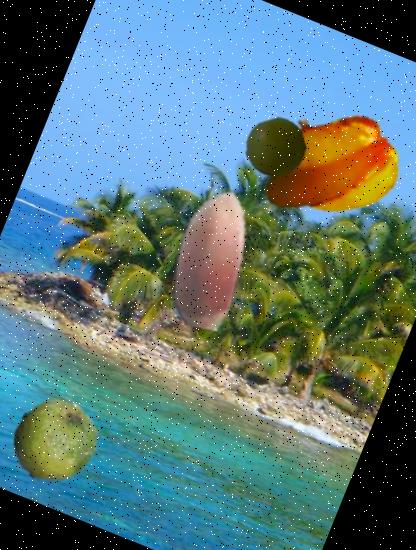Carambula: (238, 73, 416, 255)
Grape: (235, 109, 314, 188)
Hazelnut: (116, 163, 304, 350)
Limes: (0, 385, 109, 496)
